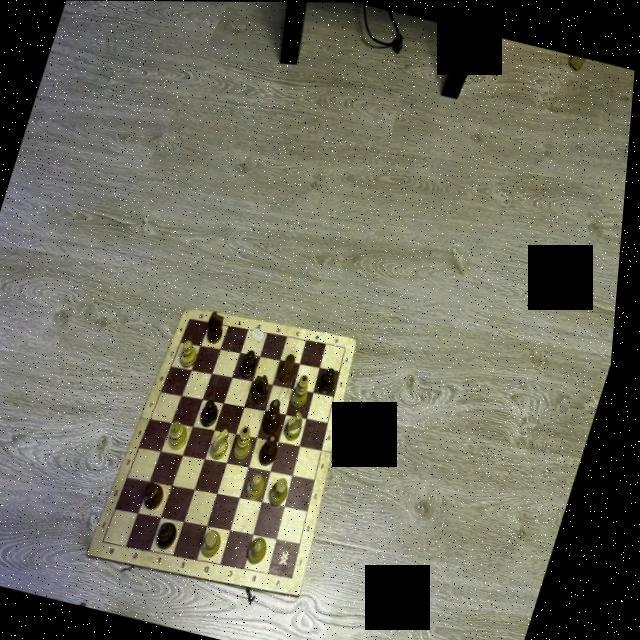chess-table-corners: (108, 538, 116, 546), (298, 574, 304, 580), (348, 343, 353, 350), (192, 317, 196, 321)
